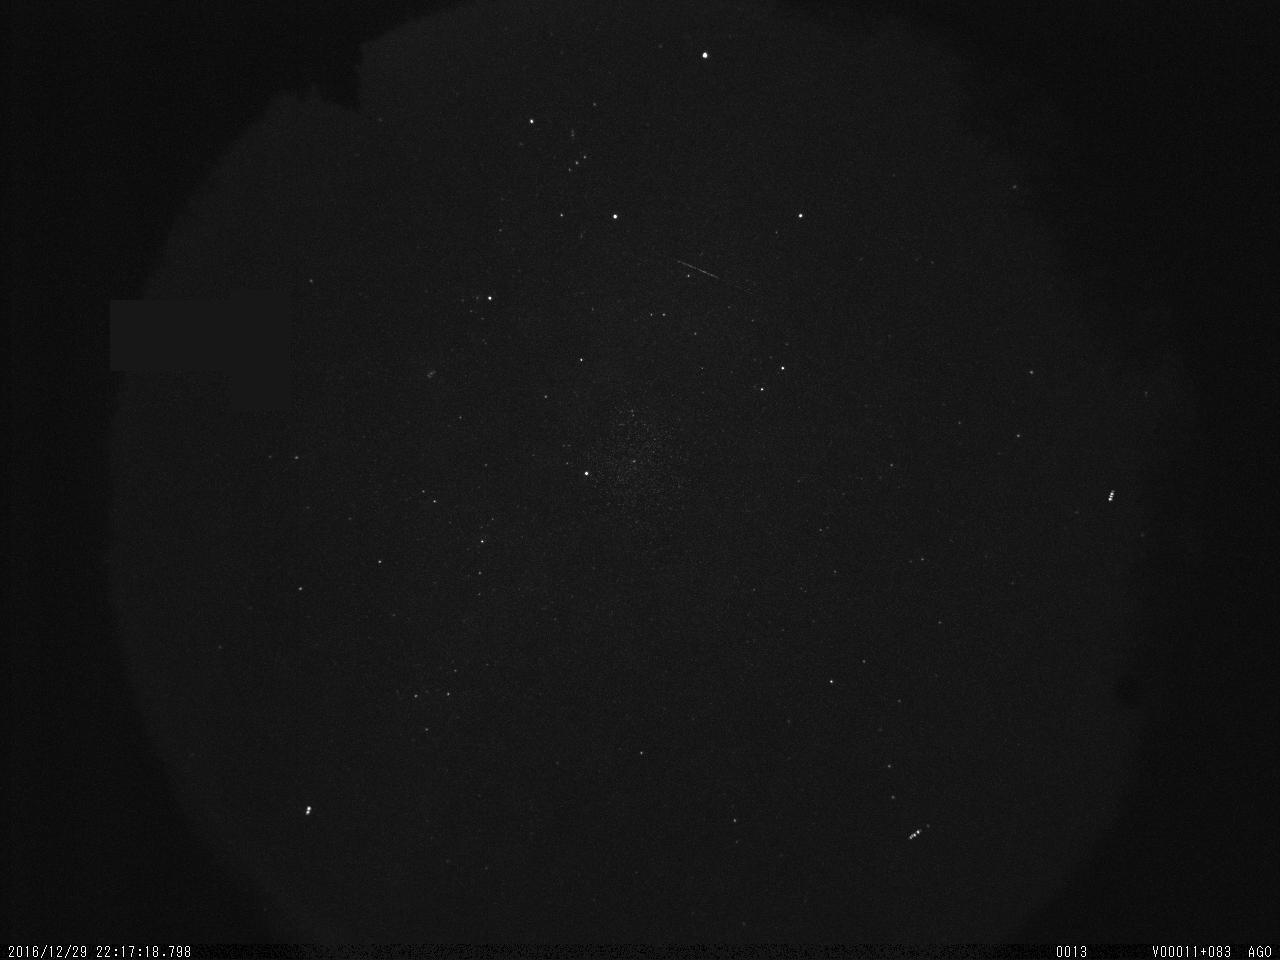meteor: (659, 246, 731, 290)
